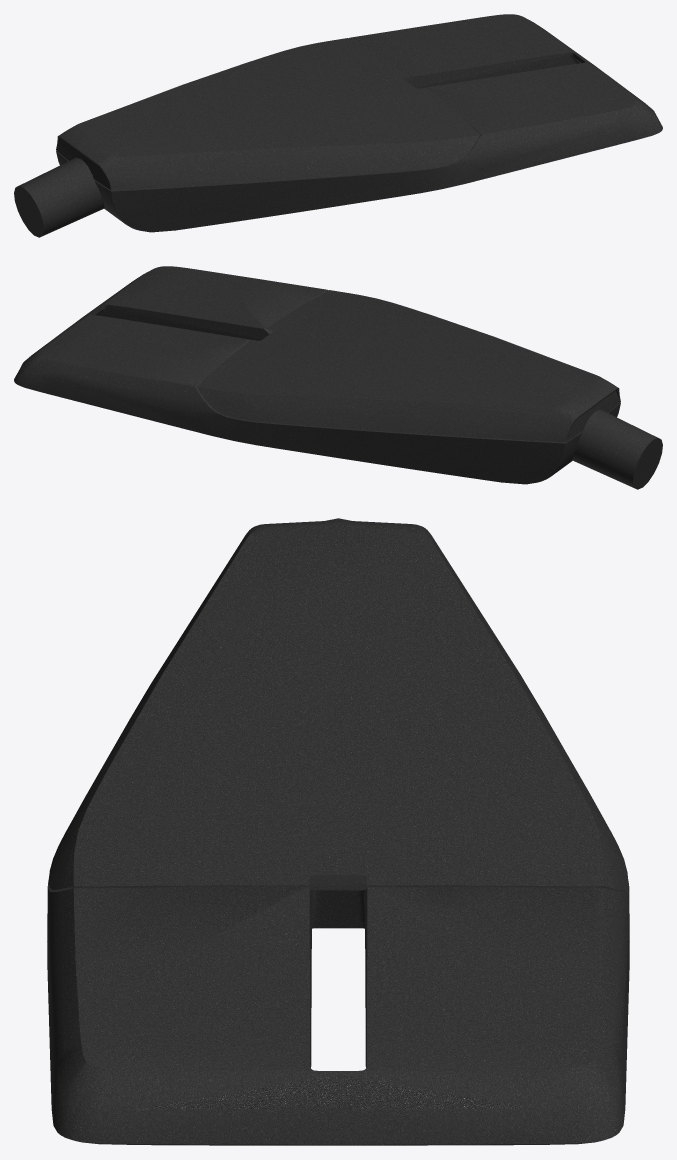
The model's file is Streetlight_11_Midi.glb.
3 renders of one model, top to bottom at view 1: azimuth 30°, elevation 25°; view 2: azimuth 150°, elevation 25°; view 3: azimuth 270°, elevation 25°, orthographic. The views are drawn at different scales.
Visible parts, largest first — view 1: Siteco Streetlight 11 Midi; view 2: Siteco Streetlight 11 Midi; view 3: Siteco Streetlight 11 Midi.
Part boxes in pixels (left/top/right/bottom): Siteco Streetlight 11 Midi: left=14, top=14, right=662, bottom=237; Siteco Streetlight 11 Midi: left=14, top=266, right=662, bottom=489; Siteco Streetlight 11 Midi: left=47, top=518, right=629, bottom=1145.
Bounding box in the file's own units: 0.8603 × 0.1186 × 0.376.
3 materials, 2 textured.
